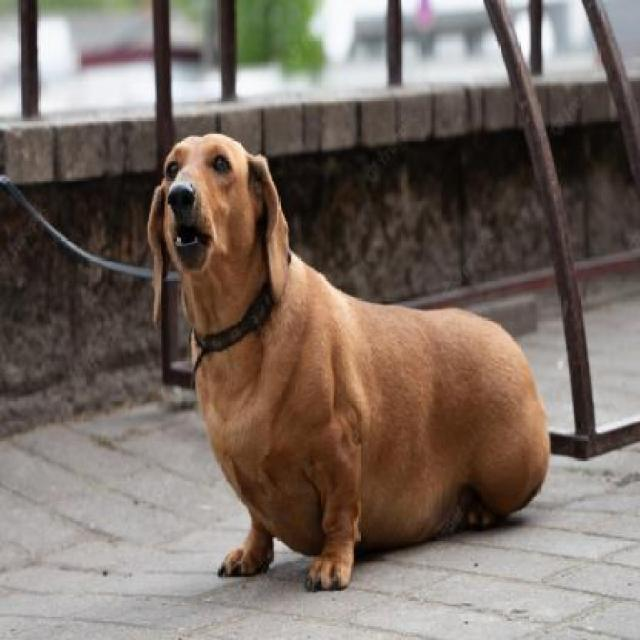Dog: (143, 128, 557, 592)
